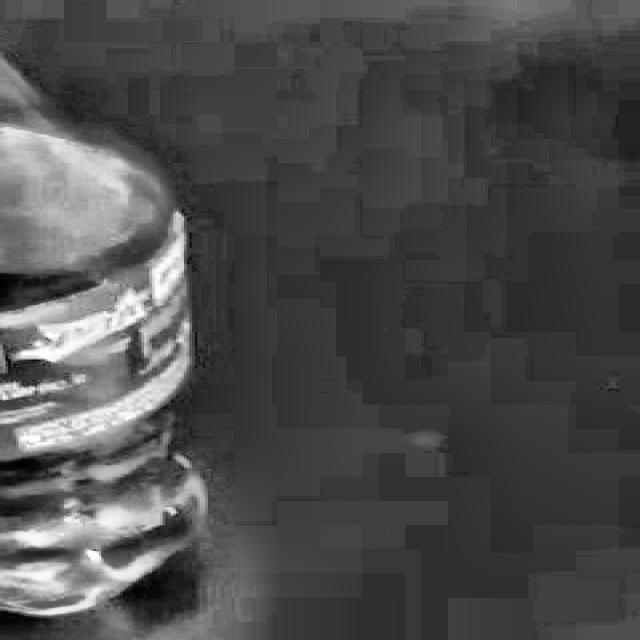bottle: (0, 45, 208, 625)
